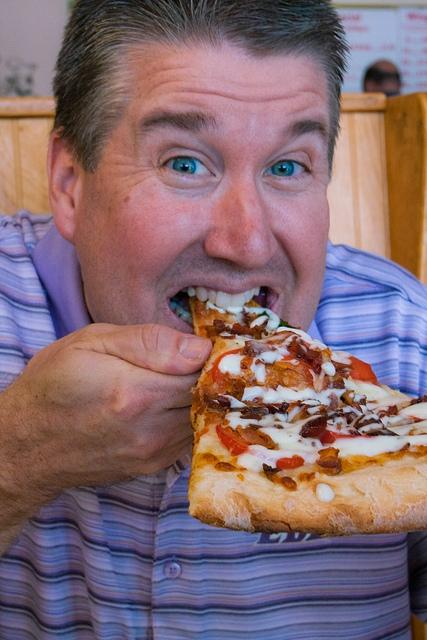tomato: (274, 354, 314, 384), (348, 356, 382, 388), (212, 348, 241, 382), (216, 425, 247, 456), (318, 429, 378, 444)
